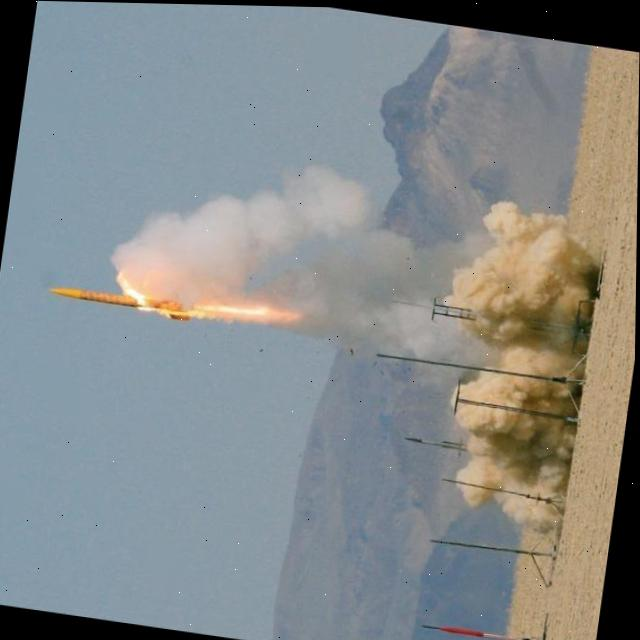missile: (51, 282, 204, 323)
